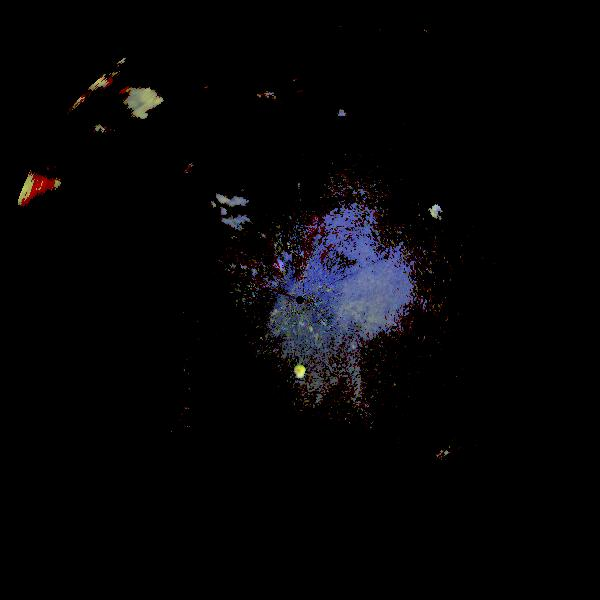roost: (432, 444, 468, 480), (426, 202, 447, 223), (292, 364, 310, 382)
